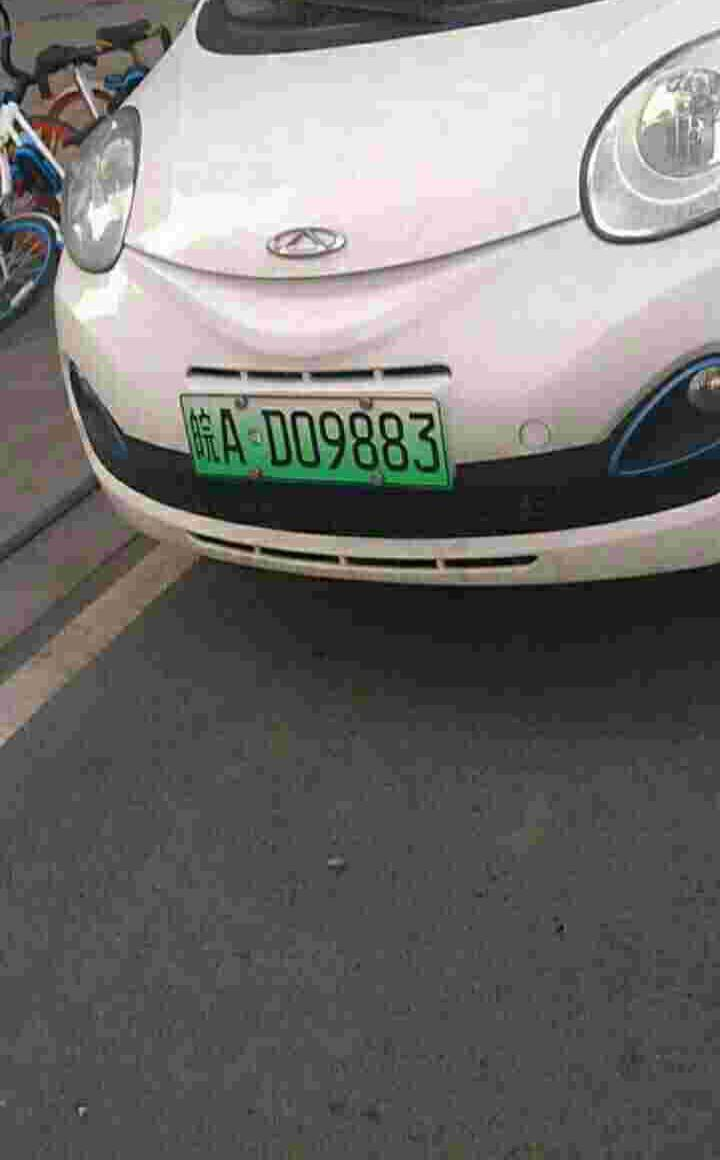car_id: (179, 393, 449, 483)
